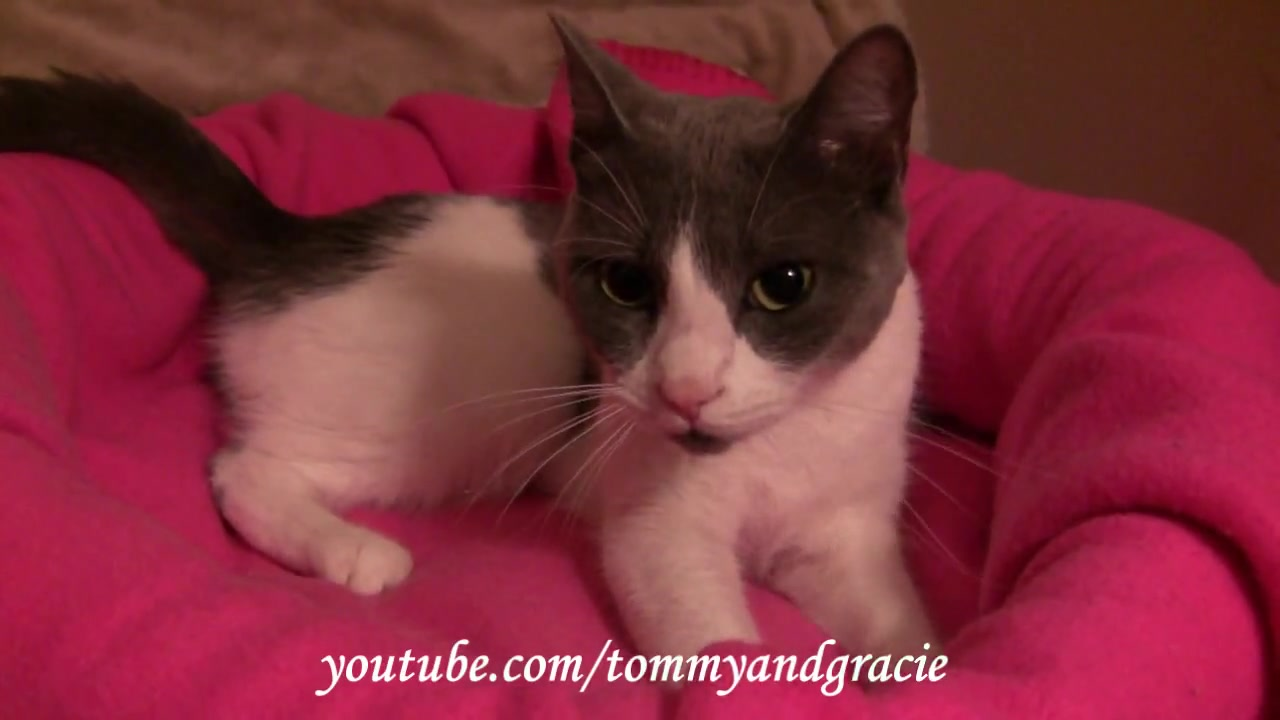cat: (4, 15, 943, 652)
